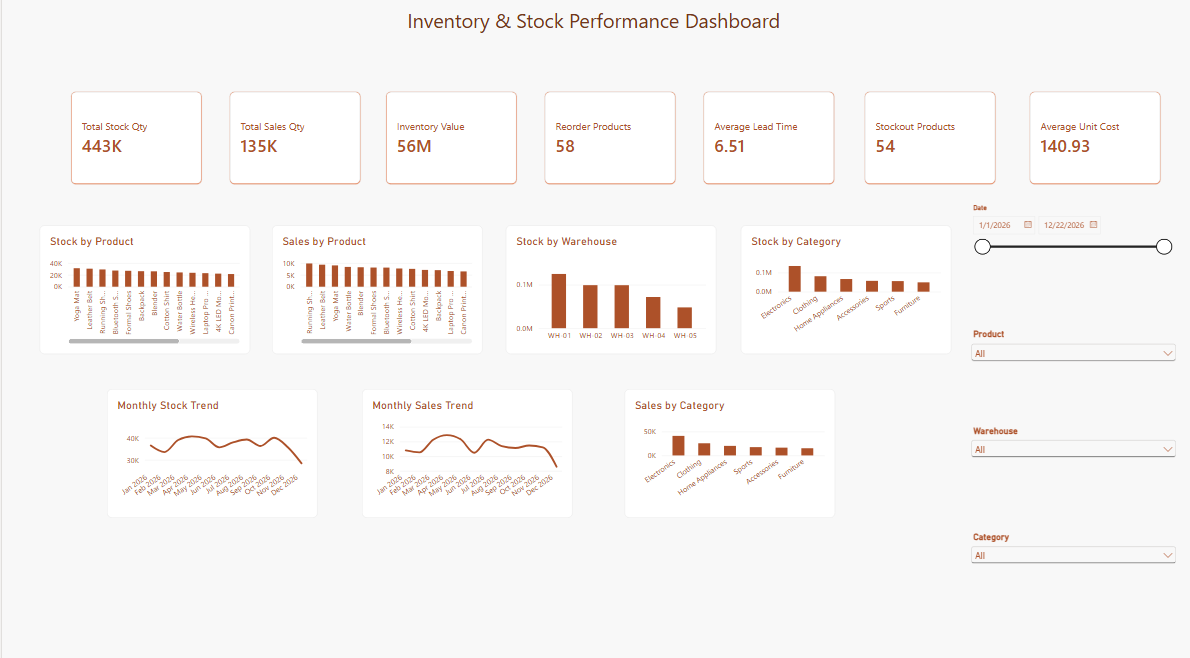

The dashboard page shown, as its layout file describes it:
{"tool":"powerbi","page":{"name":"Page 1","canvas":[1920,1080],"ordinal":0},"visuals":[{"type":"textbox","box":[10.3,20.6,1889.5,43.2],"z":0},{"type":"cardVisual","fields":{"Data":["Inventory.Total Stock Qty"]},"box":[110,158,212,150],"z":1000},{"type":"cardVisual","fields":{"Data":["Inventory.Total Sales Qty"]},"box":[368,158,212,150],"z":2000},{"type":"cardVisual","fields":{"Data":["Inventory.Inventory Value"]},"box":[620,158,212,150],"z":3000},{"type":"cardVisual","fields":{"Data":["Inventory.Reorder Products"]},"box":[876,158,212,150],"z":4000},{"type":"cardVisual","fields":{"Data":["Inventory.Average Lead Time"]},"box":[1132,158,212,150],"z":5000},{"type":"cardVisual","fields":{"Data":["Inventory.Stockout Products"]},"box":[1392,158,212,150],"z":6000},{"type":"cardVisual","fields":{"Data":["Inventory.Average Unit Cost"]},"box":[1658,158,212,150],"z":7000},{"type":"clusteredColumnChart","title":" Stock by Product","fields":{"Category":["Inventory.Product"],"Y":["Inventory.Total Stock Qty"]},"box":[60,374,340,208],"z":8000},{"type":"clusteredColumnChart","title":" Sales  by Product","fields":{"Category":["Inventory.Product"],"Y":["Inventory.Total Sales Qty"]},"box":[436,374,340,208],"z":9000},{"type":"clusteredColumnChart","title":" Stock  by Warehouse","fields":{"Category":["Inventory.Warehouse"],"Y":["Inventory.Total Stock Qty"]},"box":[812,374,340,208],"z":10000},{"type":"clusteredColumnChart","title":"Stock  by Category","fields":{"Category":["Inventory.Category"],"Y":["Inventory.Total Stock Qty"]},"box":[1192,374,340,208],"z":11000},{"type":"clusteredColumnChart","title":" Sales  by Category","fields":{"Category":["Inventory.Category"],"Y":["Inventory.Total Sales Qty"]},"box":[1004,638,340,208],"z":12000},{"type":"lineChart","title":"Monthly  Stock  Trend","fields":{"Category":["Calendar Table.Month Year"],"Y":["Inventory.Total Stock Qty"]},"box":[170,638,340,208],"z":13000},{"type":"lineChart","title":" Monthly  Sales Trend","fields":{"Category":["Calendar Table.Month Year"],"Y":["Inventory.Total Sales Qty"]},"box":[580,638,340,208],"z":14000},{"type":"slicer","fields":{"Values":["Calendar Table.Date"]},"box":[1560,338,340,126],"z":15000},{"type":"slicer","fields":{"Values":["Inventory.Product"]},"box":[1560,540,340,126],"z":16000},{"type":"slicer","fields":{"Values":["Inventory.Warehouse"]},"box":[1560,696,340,126],"z":17000},{"type":"slicer","fields":{"Values":["Inventory.Category"]},"box":[1560,868,340,126],"z":17001}]}

Visuals, with their boxes in screenshot pixels (x1, y1, x2, y2), scaled from the page's 1920x1080 canvas onto the 1190x658 screenshot:
textbox: BBox(6, 13, 1177, 39)
cardVisual - Inventory.Total Stock Qty: BBox(68, 96, 200, 188)
cardVisual - Inventory.Total Sales Qty: BBox(228, 96, 359, 188)
cardVisual - Inventory.Inventory Value: BBox(384, 96, 516, 188)
cardVisual - Inventory.Reorder Products: BBox(543, 96, 674, 188)
cardVisual - Inventory.Average Lead Time: BBox(702, 96, 833, 188)
cardVisual - Inventory.Stockout Products: BBox(863, 96, 994, 188)
cardVisual - Inventory.Average Unit Cost: BBox(1028, 96, 1159, 188)
" Stock by Product" clusteredColumnChart: BBox(37, 228, 248, 355)
" Sales  by Product" clusteredColumnChart: BBox(270, 228, 481, 355)
" Stock  by Warehouse" clusteredColumnChart: BBox(503, 228, 714, 355)
"Stock  by Category" clusteredColumnChart: BBox(739, 228, 950, 355)
" Sales  by Category" clusteredColumnChart: BBox(622, 389, 833, 515)
"Monthly  Stock  Trend" lineChart: BBox(105, 389, 316, 515)
" Monthly  Sales Trend" lineChart: BBox(359, 389, 570, 515)
slicer - Calendar Table.Date: BBox(967, 206, 1178, 283)
slicer - Inventory.Product: BBox(967, 329, 1178, 406)
slicer - Inventory.Warehouse: BBox(967, 424, 1178, 501)
slicer - Inventory.Category: BBox(967, 529, 1178, 606)
